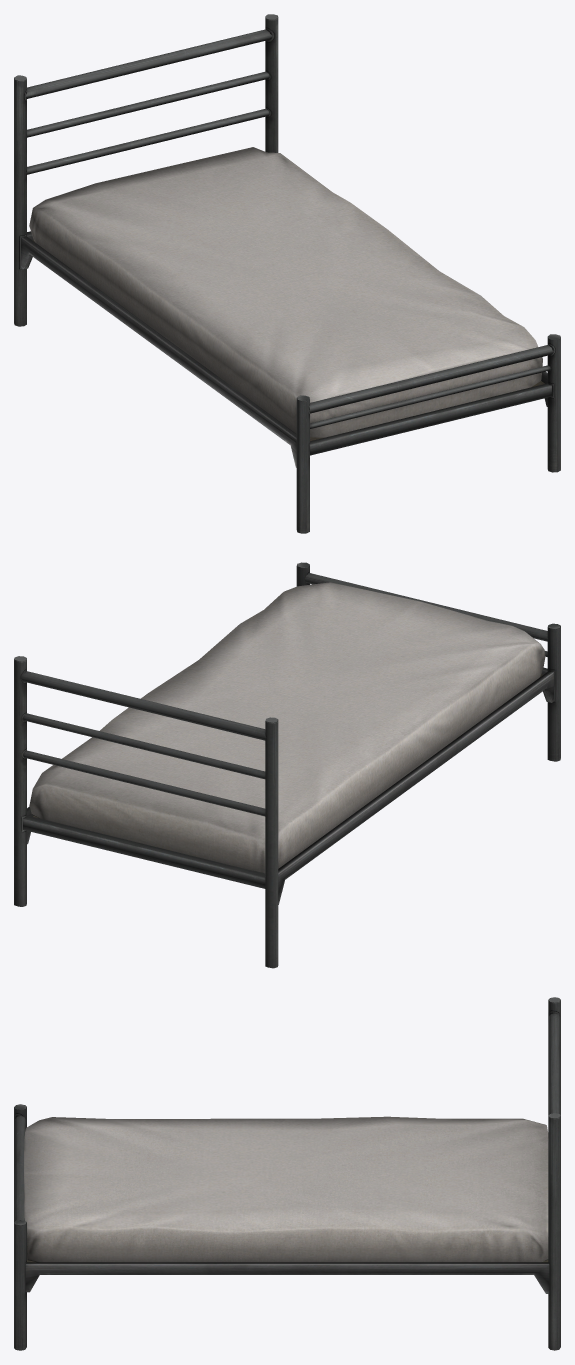
The model's file is bed.dae.
3 views of the same model, one above another, from view 1: azimuth 30°, elevation 25°; view 2: azimuth 150°, elevation 25°; view 3: azimuth 270°, elevation 25° (orthographic). The views are drawn at different scales.
Visible parts, largest first — view 1: bed; view 2: bed; view 3: bed.
Part boxes in pixels (x1,y1,x2,y2): bed: (14, 14, 560, 533); bed: (14, 562, 560, 968); bed: (14, 997, 560, 1350).
Bounding box in the file's own units: 105 × 93.86 × 200.
